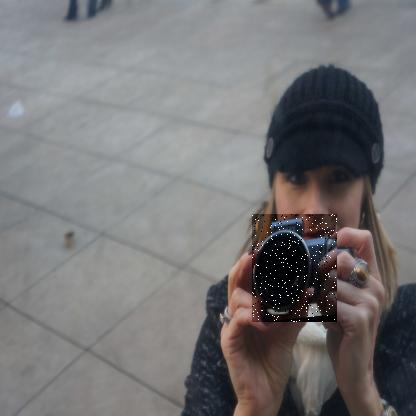Camera: (253, 215, 339, 324)
